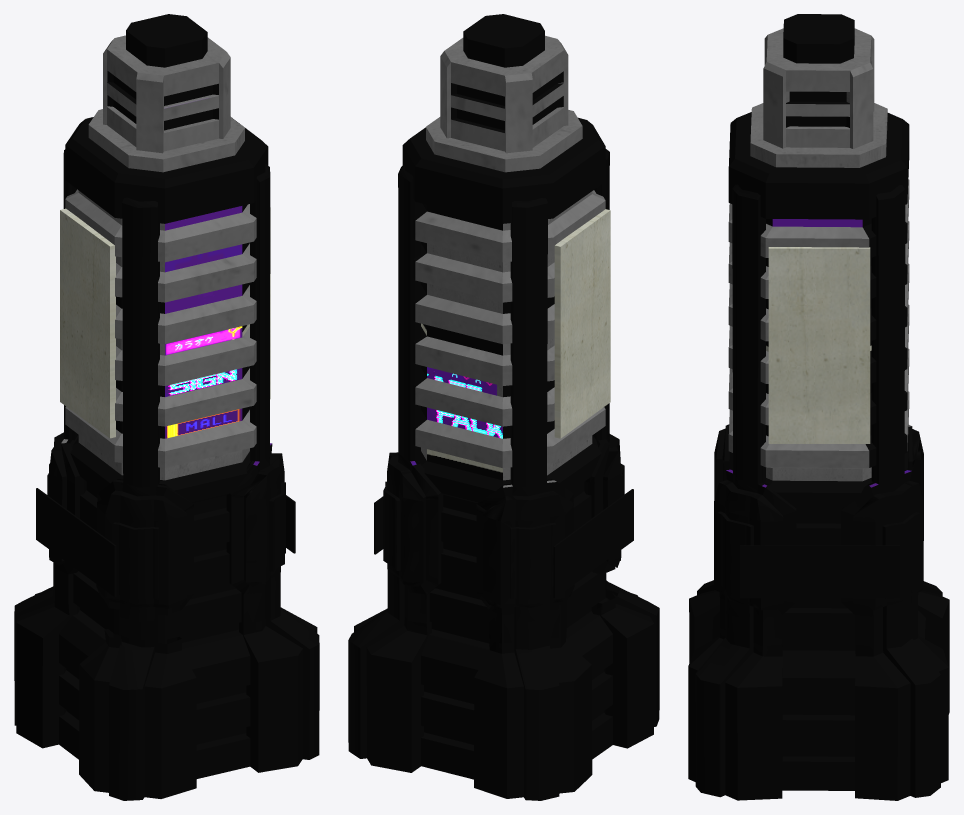
Rendered from shellyGebouw4.fbx.
3 renders of one model, left to right at view 1: azimuth 30°, elevation 25°; view 2: azimuth 150°, elevation 25°; view 3: azimuth 270°, elevation 25°, orthographic.
Parts seen in each view (by area): view 1: Cube.008; view 2: Cube.008; view 3: Cube.008.
Boxes of the visible parts, <box> form: Cube.008: <box>14,14,319,800</box>; Cube.008: <box>348,14,659,800</box>; Cube.008: <box>688,14,949,800</box>.
Size of the model in its own units: 1150 by 3478 by 1150.
